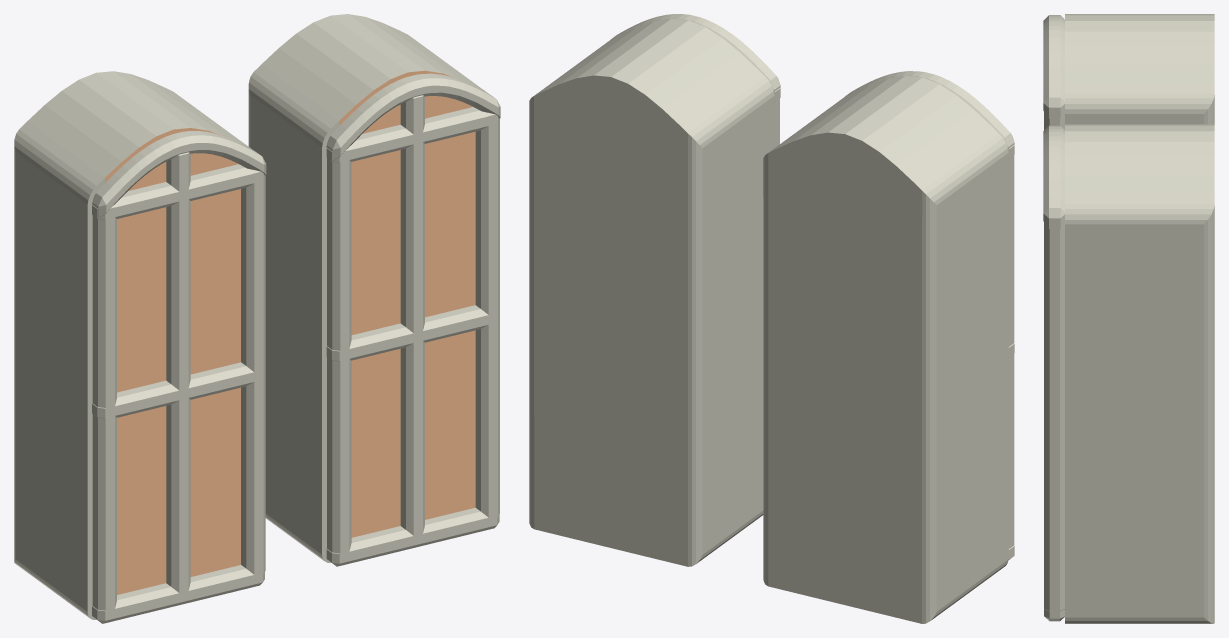
File: window1_textured.fbx
3 renders of one model, left to right at view 1: azimuth 30°, elevation 25°; view 2: azimuth 150°, elevation 25°; view 3: azimuth 270°, elevation 25°, orthographic. The views are drawn at different scales.
Parts seen in each view (by area): view 1: Cube.019; view 2: Cube.019; view 3: Cube.019.
Boxes of the visible parts, <box> form: Cube.019: <box>14,14,500,623</box>; Cube.019: <box>529,14,1014,623</box>; Cube.019: <box>1043,14,1214,623</box>.
Size of the model in its own units: 47.23 by 52.36 by 17.87.
